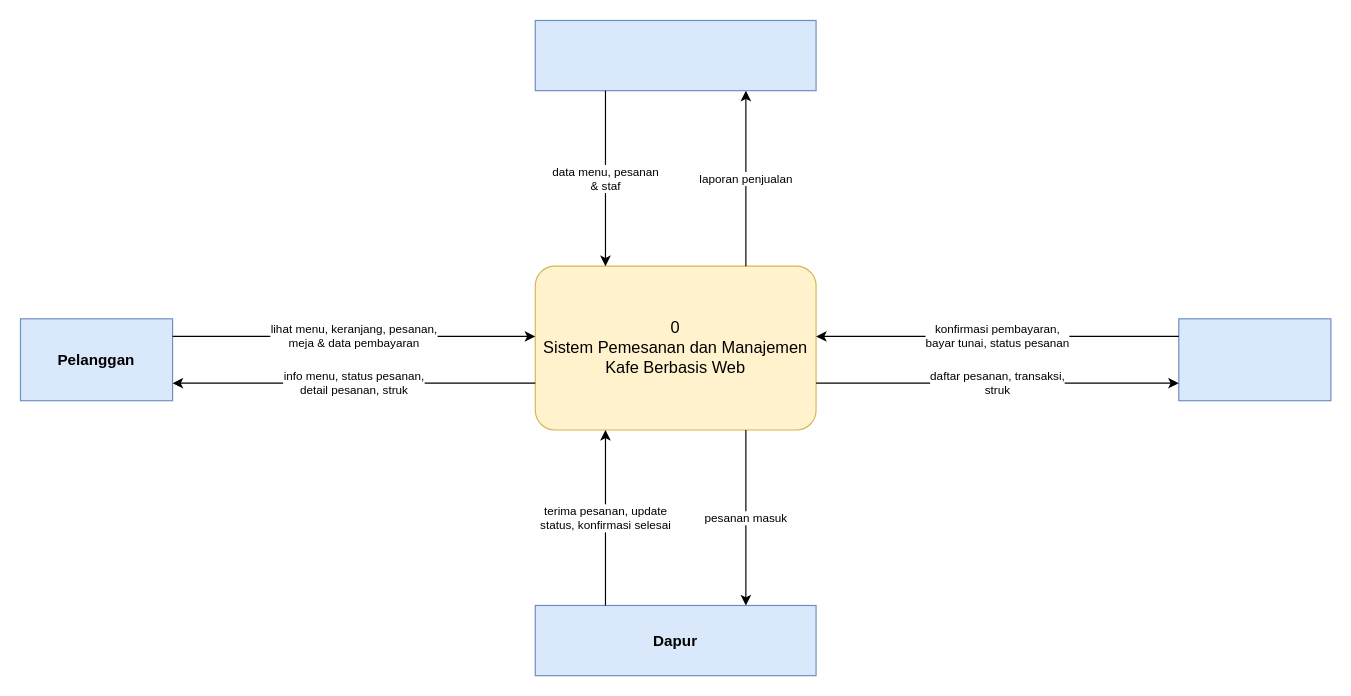
Image size: 1351x696. Some labels were removed from this diagram. The centre of each missing label's shape, as x and y in pixels:
Admin: (675,55)
Kasir: (1254,359)
